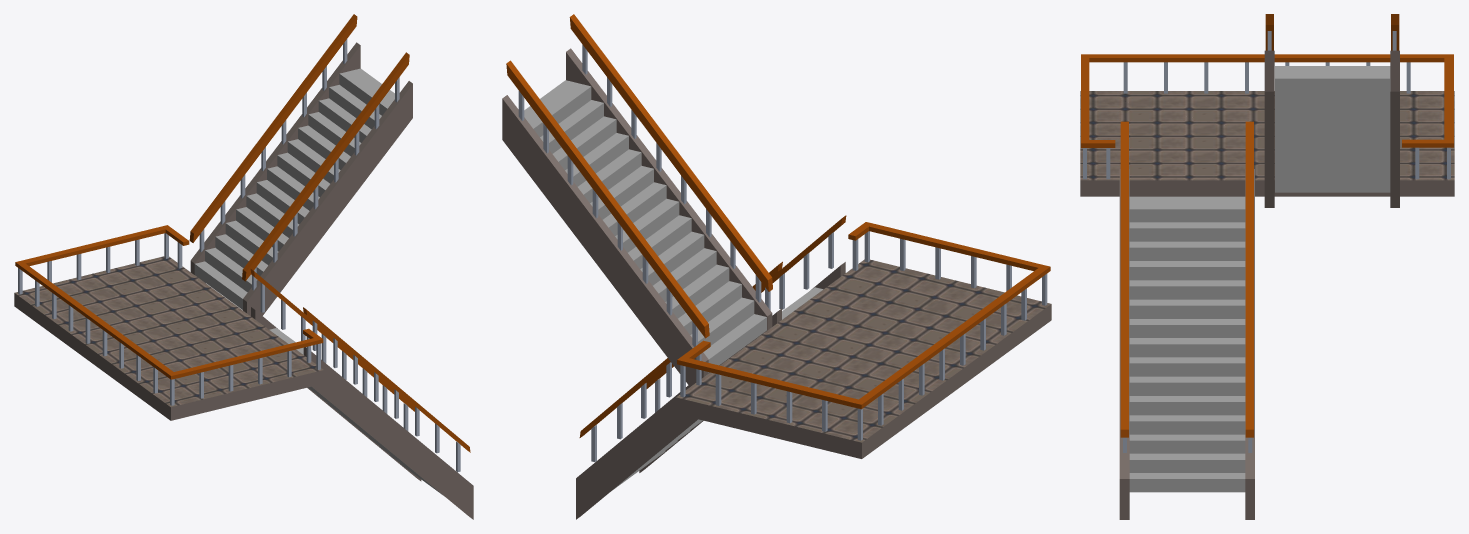
Rendered from Ladder.fbx.
3 views of the same model, side by side, from view 1: azimuth 30°, elevation 25°; view 2: azimuth 150°, elevation 25°; view 3: azimuth 270°, elevation 25° (orthographic). The views are drawn at different scales.
Visible parts, largest first — view 1: Plane.004, Steps 2.001, Railings 2.003, Railings 3.002, Railings 1.002, Railings 4.002, Steps 2.002; view 2: Plane.004, Steps 2.001, Railings 2.003, Railings 3.002, Railings 4.002, Railings 1.002, Steps 2.002; view 3: Steps 2.002, Plane.004, Steps 2.001, Railings 1.002, Railings 3.002, Railings 4.002, Railings 2.003.
Boxes of the visible parts, <box> form: Plane.004: <box>14,42,473,519</box>; Steps 2.001: <box>194,68,394,309</box>; Railings 2.003: <box>189,14,409,290</box>; Railings 3.002: <box>15,225,323,379</box>; Railings 1.002: <box>250,269,470,472</box>; Railings 4.002: <box>18,233,320,405</box>; Steps 2.002: <box>269,328,442,494</box>; Plane.004: <box>502,48,1051,519</box>; Steps 2.001: <box>524,80,766,372</box>; Railings 2.003: <box>506,14,772,346</box>; Railings 3.002: <box>677,222,1050,409</box>; Railings 4.002: <box>680,231,1047,440</box>; Railings 1.002: <box>579,215,846,461</box>; Steps 2.002: <box>612,287,823,490</box>; Steps 2.002: <box>1129,196,1245,492</box>; Plane.004: <box>1080,50,1454,519</box>; Steps 2.001: <box>1275,66,1390,192</box>; Railings 1.002: <box>1120,121,1253,452</box>; Railings 3.002: <box>1081,54,1453,147</box>; Railings 4.002: <box>1083,62,1450,179</box>; Railings 2.003: <box>1265,14,1399,50</box>.
Size of the model in its own units: 921 by 1161 by 781.
